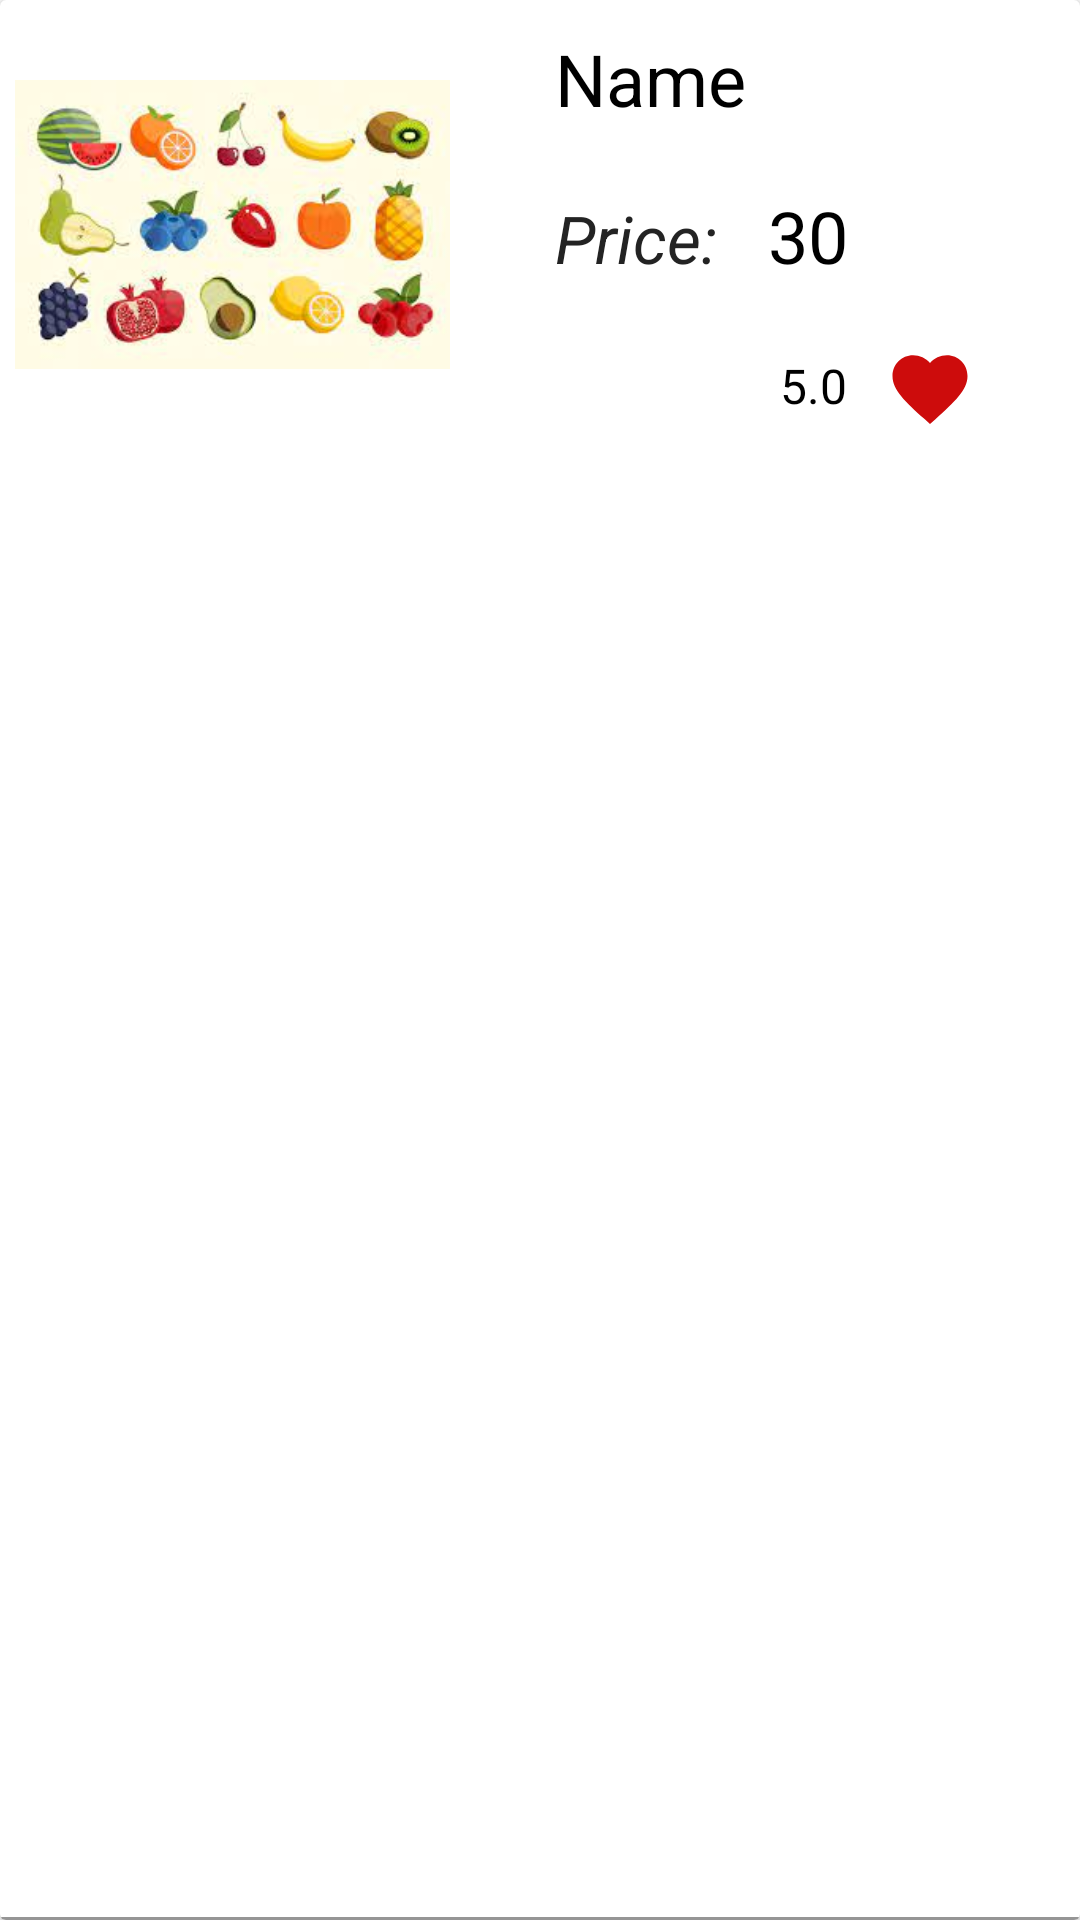

Where to tap for icons on this 1080px x 1920px app screen, as point (x, y):
favorite: point (930, 389)
